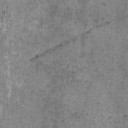finishing roll printing: (30, 19, 114, 62)
